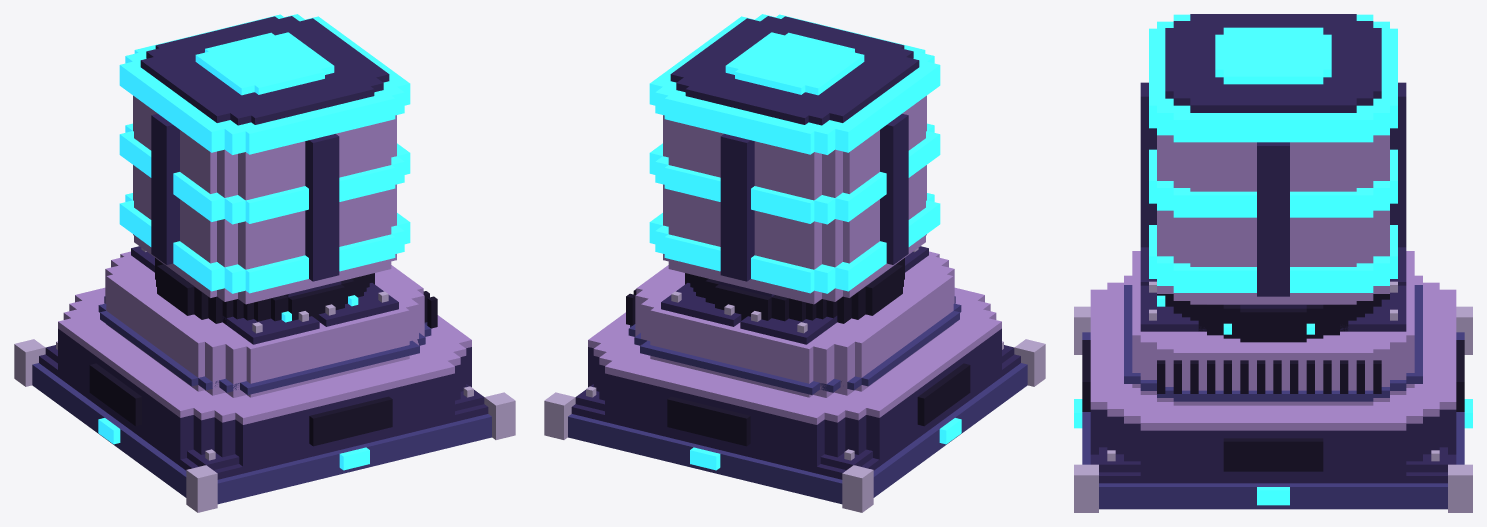
Rendered from shield-emitter.lg.glb.
3 renders of one model, left to right at view 1: azimuth 30°, elevation 25°; view 2: azimuth 150°, elevation 25°; view 3: azimuth 270°, elevation 25°, orthographic. The views are drawn at different scales.
Visible parts, largest first — view 1: shield-emitter.lg; view 2: shield-emitter.lg; view 3: shield-emitter.lg.
Part boxes in pixels (bbox=[...]): shield-emitter.lg: bbox=[14, 14, 515, 512]; shield-emitter.lg: bbox=[544, 14, 1045, 512]; shield-emitter.lg: bbox=[1074, 14, 1472, 512].
Bounding box in the file's own units: 3 × 3.12 × 3.
